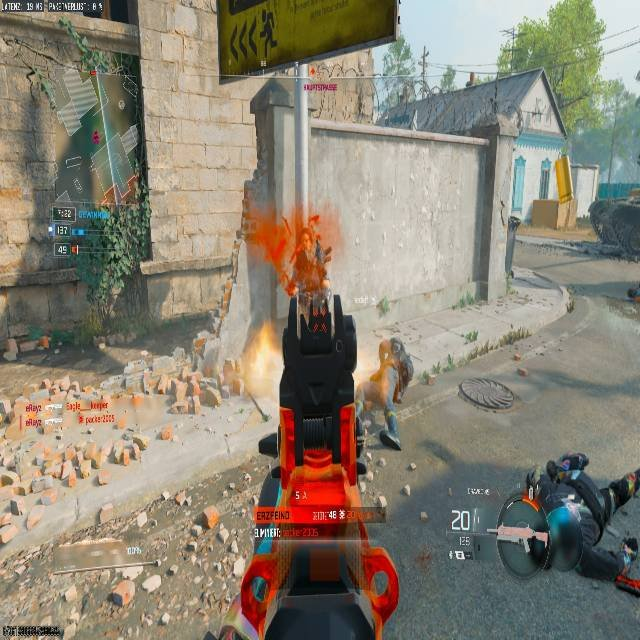player: (515, 452, 640, 601), (353, 332, 413, 451)
